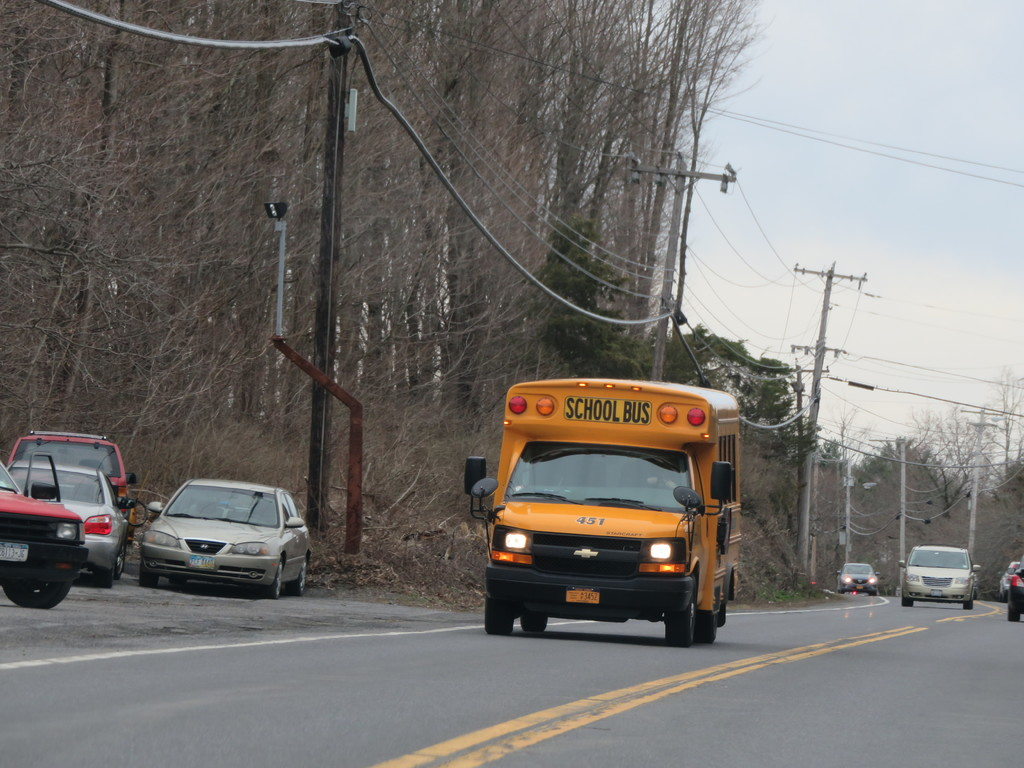Car: (138, 476, 316, 598), (8, 460, 135, 583), (0, 452, 92, 607), (5, 424, 134, 494), (897, 540, 981, 611), (1003, 563, 1023, 622), (840, 560, 874, 593)
